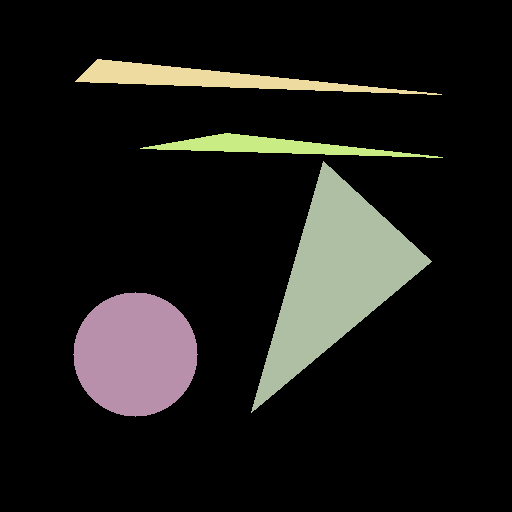circle: (73, 292, 197, 416)
triangle: (251, 161, 431, 412), (75, 59, 441, 94), (140, 133, 442, 157)
